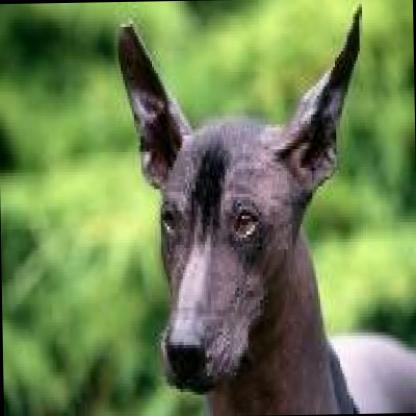Mexican_hairless: (109, 6, 415, 412)
